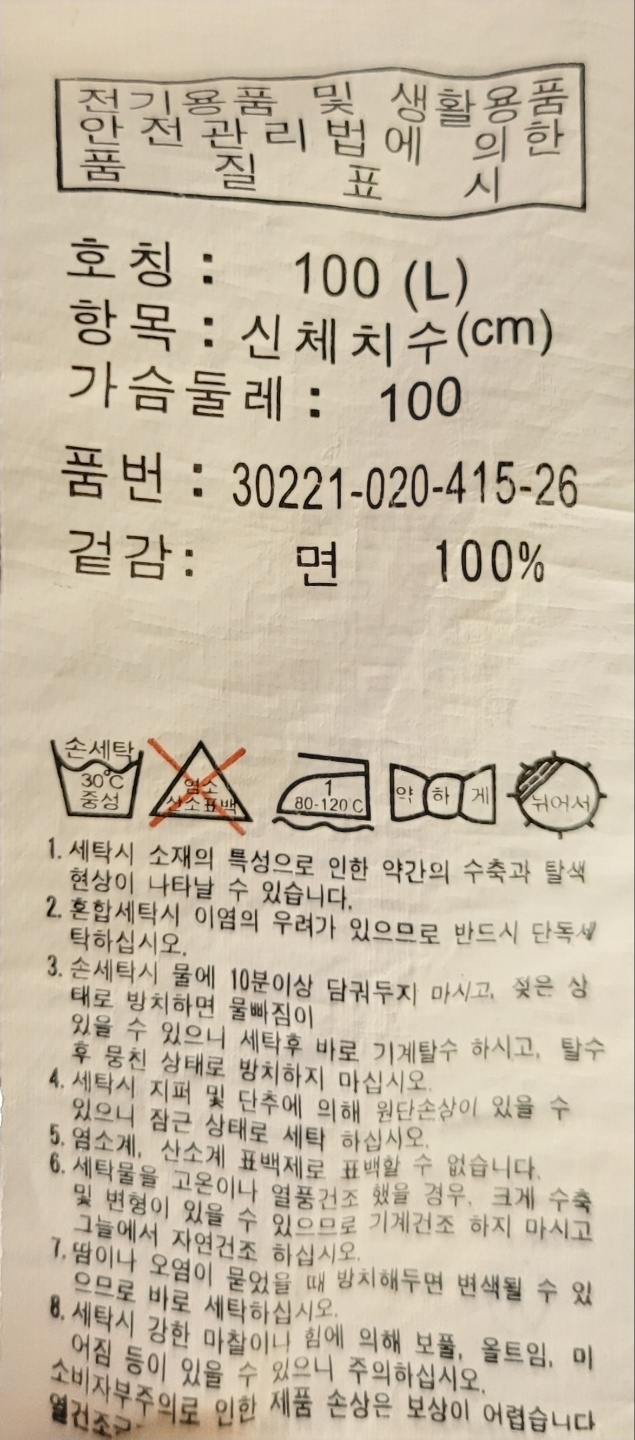KR_flat_dry_in_shade: (502, 749, 615, 841)
KR_gentle_wring: (381, 752, 503, 832)
KR_hand_wash_30_neutral: (42, 731, 146, 824)
KR_iron_low_temp_with_cloth: (274, 741, 379, 835)
KR_no_bleach: (148, 737, 256, 834)
